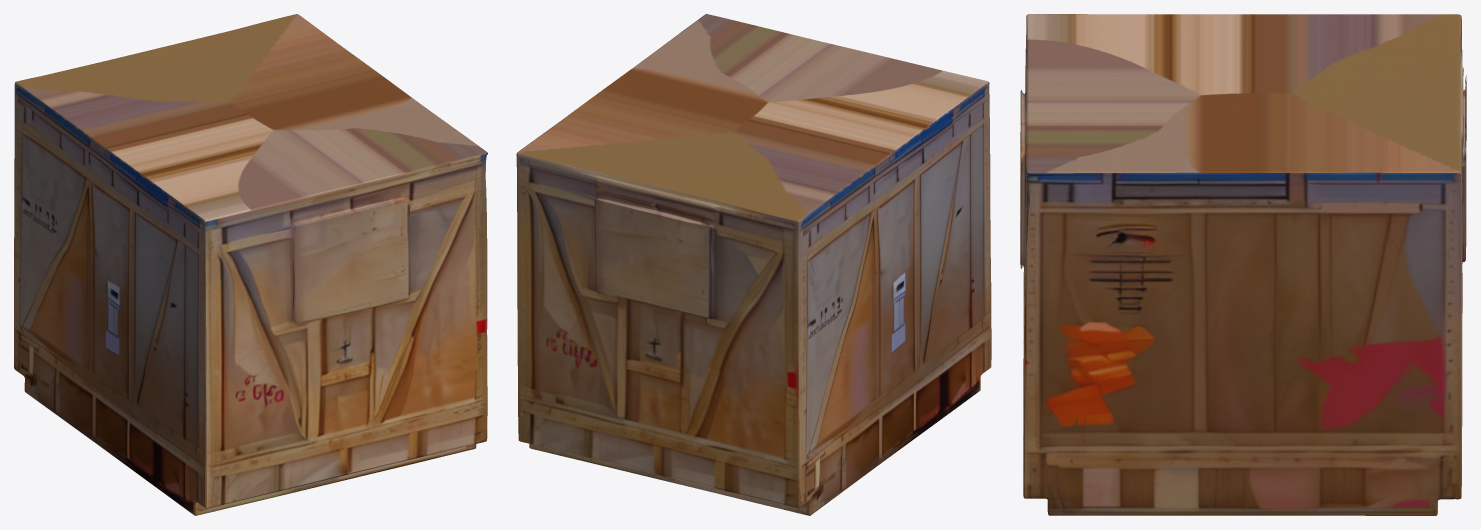
3 renders of one model, left to right at view 1: azimuth 30°, elevation 25°; view 2: azimuth 150°, elevation 25°; view 3: azimuth 270°, elevation 25°, orthographic. The views are drawn at different scales.
Visible parts, largest first — view 1: textured_mesh.obj; view 2: textured_mesh.obj; view 3: textured_mesh.obj.
Part boxes in pixels (x1,y1,x2,y2): textured_mesh.obj: (14,14,487,515); textured_mesh.obj: (516,14,991,515); textured_mesh.obj: (1020,14,1466,515).
Bounding box in the file's own units: 1.67 × 1.7 × 1.99.
1 material, 1 textured.
